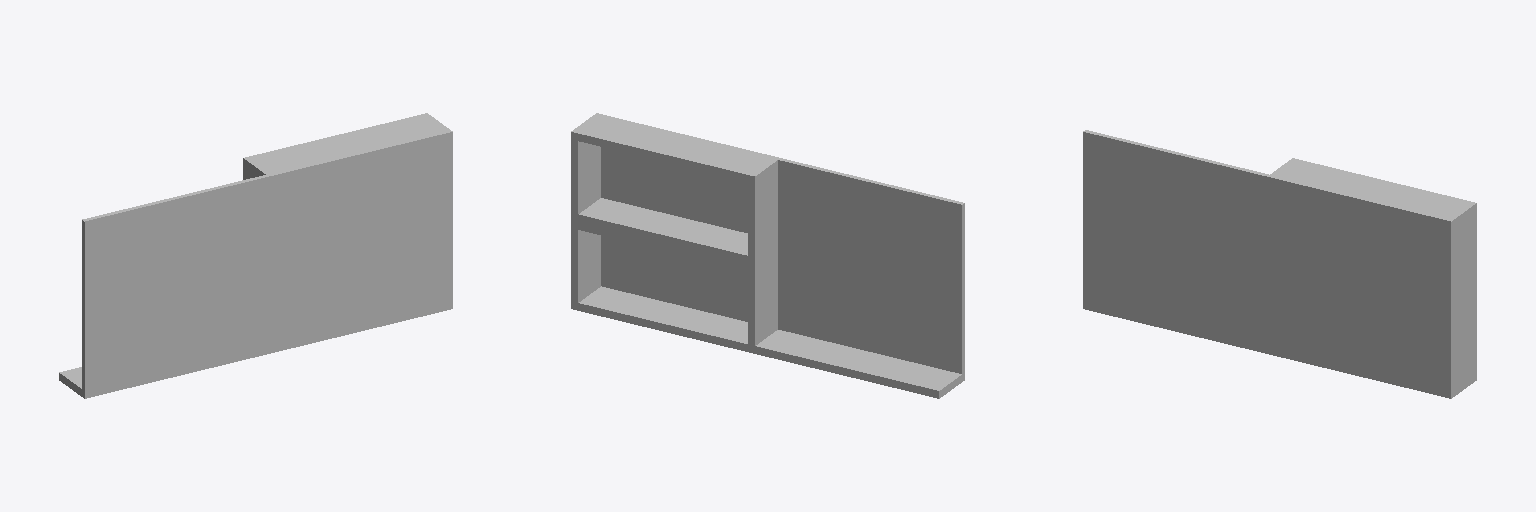
File: GroceryShelf002.obj
3 views of the same model, side by side, from view 1: azimuth 30°, elevation 25°; view 2: azimuth 150°, elevation 25°; view 3: azimuth 330°, elevation 25° (orthographic).
Visible parts, largest first — view 1: Shelf002; view 2: Shelf002; view 3: Shelf002.
Boxes of the visible parts, x1,y1,x2,y2 form: Shelf002: [59, 113, 452, 398]; Shelf002: [571, 113, 964, 398]; Shelf002: [1083, 130, 1476, 398].
Size of the model in its own units: 5.13 by 2.36 by 0.6161.